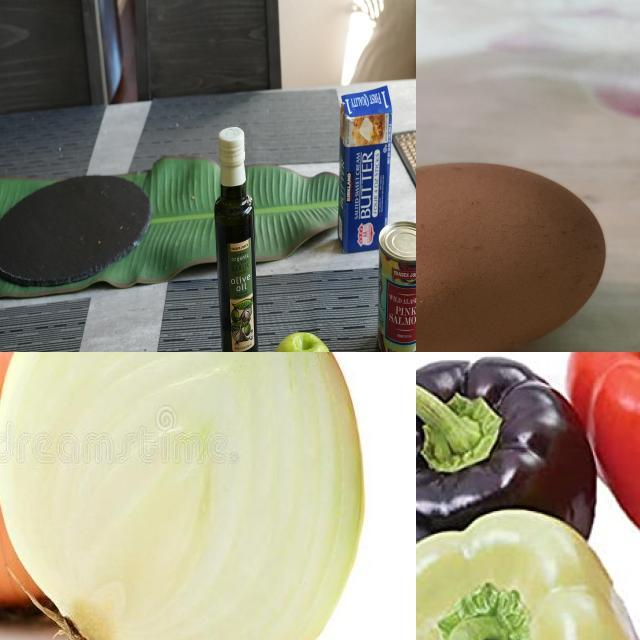bell_pepper: (417, 353, 599, 569), (417, 516, 640, 640), (574, 353, 640, 563)
egg: (417, 152, 614, 353)
onion: (1, 353, 367, 640), (1, 353, 147, 620)
